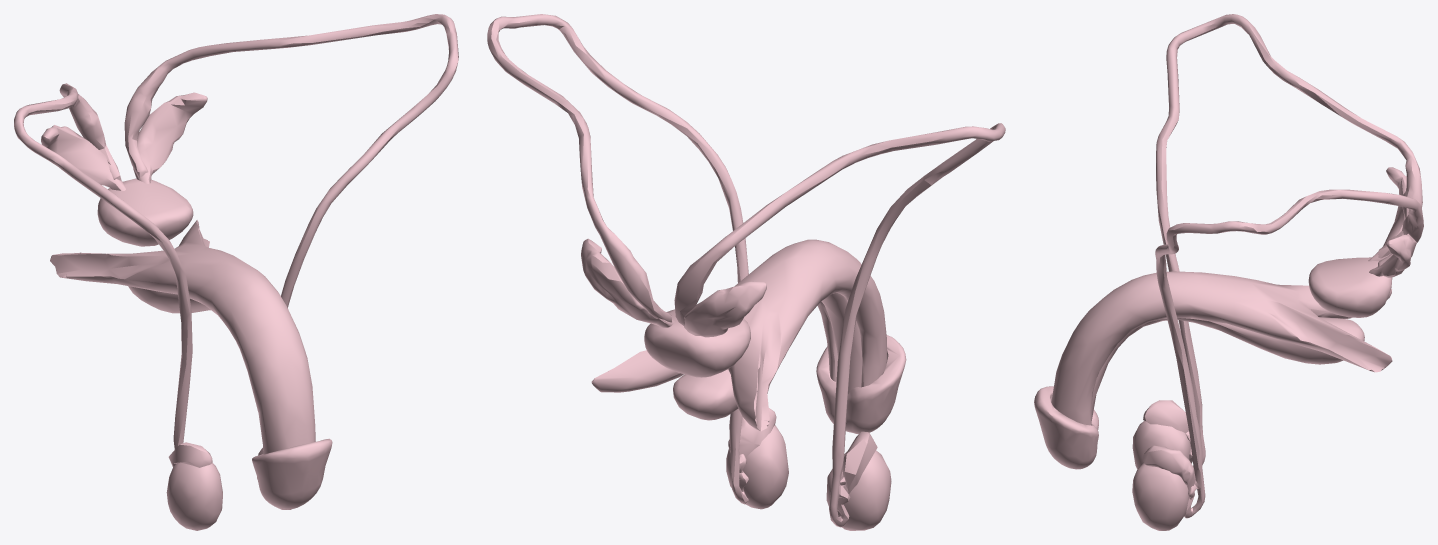
Rendered from male-reproductive.glb.
The picture shows the model from 3 angles, left to right: view 1: azimuth 30°, elevation 25°; view 2: azimuth 150°, elevation 25°; view 3: azimuth 270°, elevation 25°; orthographic projection. The views are drawn at different scales.
Parts seen in each view (by area): view 1: FJ3132, FJ3135, FJ3140, FJ3139, FJ3134, FJ3142, FJ3137, FJ3143, FJ3133, FJ3141; view 2: FJ3132, FJ3140, FJ3135, FJ3139, FJ3133, FJ3134, FJ3138, FJ3143, FJ3142, FJ3137, FJ3141, FJ3136; view 3: FJ3132, FJ3140, FJ3135, FJ3139, FJ3134, FJ3138, FJ3133, FJ3142, FJ3136, FJ3137, FJ3141, FJ3143.
Part boxes in pixels (x1,y1,x2,y2): FJ3132: (50, 220, 315, 454); FJ3135: (124, 14, 458, 307); FJ3140: (14, 83, 192, 449); FJ3139: (97, 178, 193, 246); FJ3134: (252, 438, 332, 509); FJ3142: (166, 462, 222, 530); FJ3137: (133, 92, 207, 183); FJ3143: (41, 125, 125, 190); FJ3133: (128, 286, 210, 313); FJ3141: (168, 442, 212, 467); FJ3132: (591, 239, 886, 431); FJ3140: (674, 123, 1005, 527); FJ3135: (487, 14, 748, 504); FJ3139: (644, 309, 750, 377); FJ3133: (673, 293, 862, 420); FJ3134: (816, 335, 906, 434); FJ3138: (726, 425, 788, 509); FJ3143: (684, 281, 766, 337); FJ3142: (826, 450, 891, 530); FJ3137: (581, 238, 674, 327); FJ3141: (842, 431, 877, 493); FJ3136: (728, 408, 776, 457); FJ3132: (1051, 271, 1392, 425); FJ3140: (1156, 14, 1422, 466); FJ3135: (1155, 189, 1423, 518); FJ3139: (1308, 257, 1392, 317); FJ3134: (1034, 386, 1098, 469); FJ3138: (1132, 463, 1188, 530); FJ3133: (1091, 317, 1364, 423); FJ3142: (1132, 421, 1190, 469); FJ3136: (1142, 445, 1195, 499); FJ3137: (1369, 233, 1416, 277); FJ3141: (1143, 400, 1188, 433); FJ3143: (1368, 167, 1406, 261).
Size of the model in its own units: 0.1867 by 0.1712 by 0.1483.
